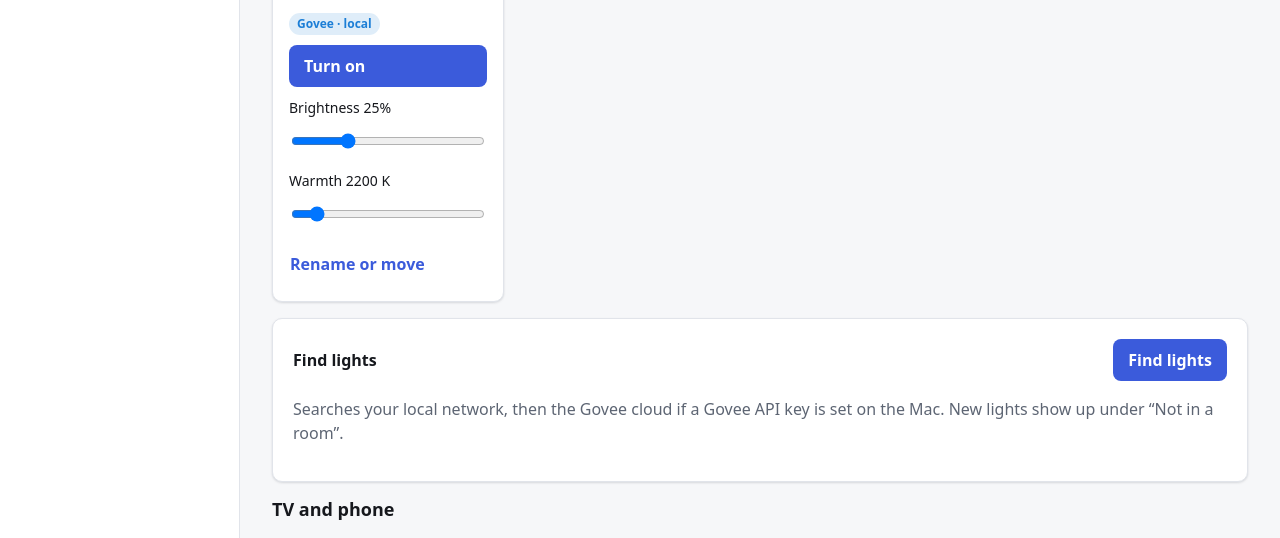
DevicesPage › finds new lights once and lists them under "Not in a room"
(page scrolled)
Click the button "Find lights" at (1170, 360), box [1113,339,1227,381]
(page scrolled)
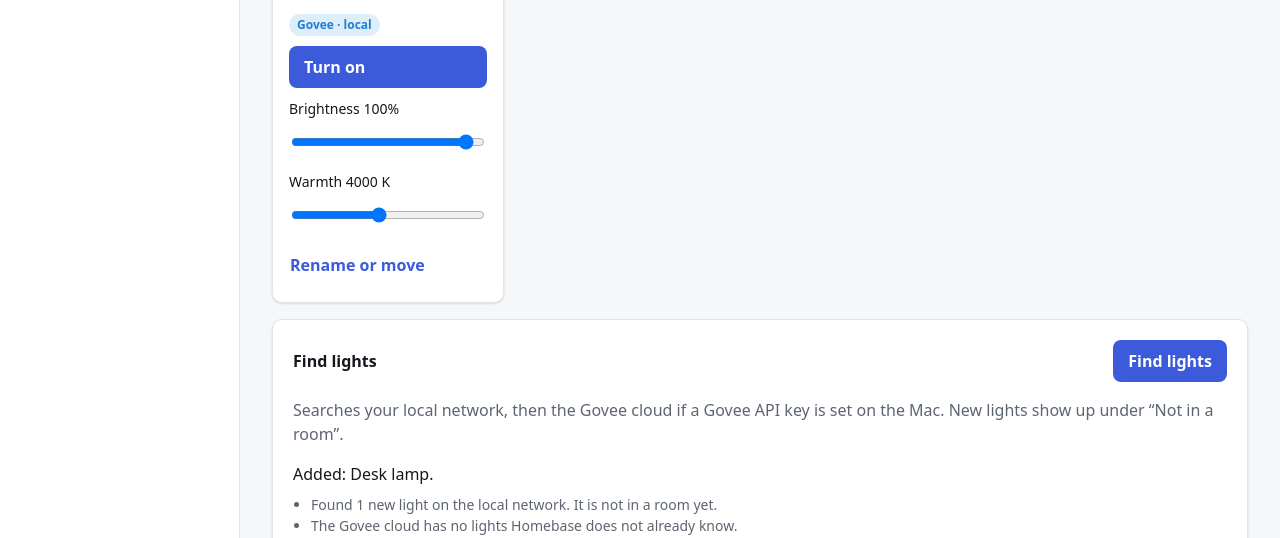
Check: the text "Added: Desk lamp." is shown, box [293,462,434,484]
Check: the list item "Found 1 new light on the local network" is shown, box [311,494,717,514]
Click the button "Find lights" at (1170, 360), box [1113,340,1227,382]
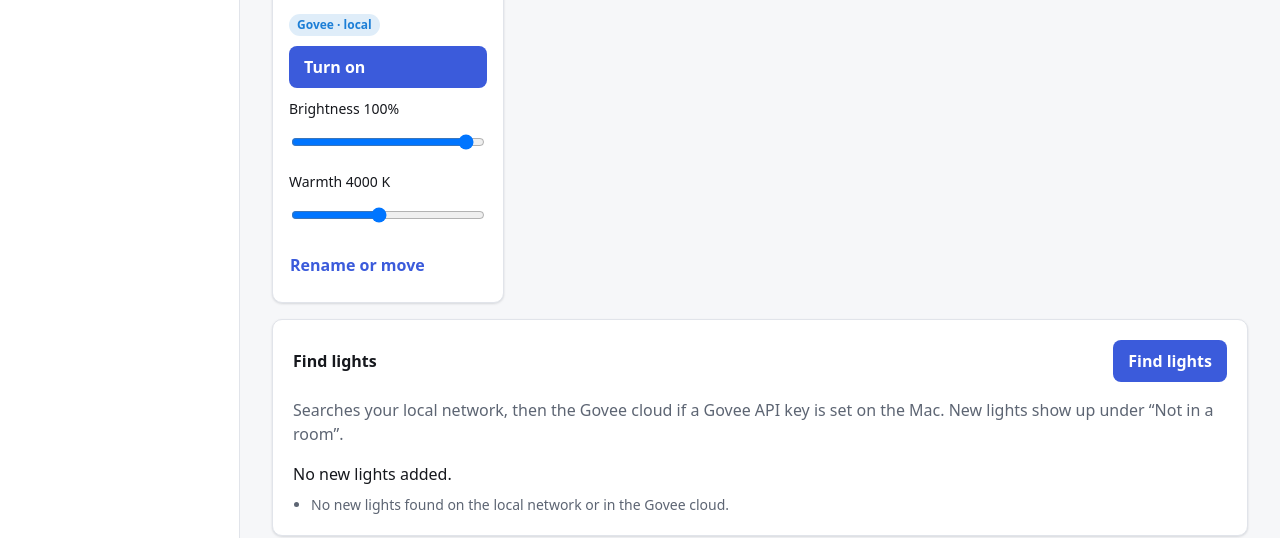
Check: the text "No new lights added." is shown, box [293,462,452,484]
Check: the list item "No new lights found" is shown, box [311,494,729,514]
